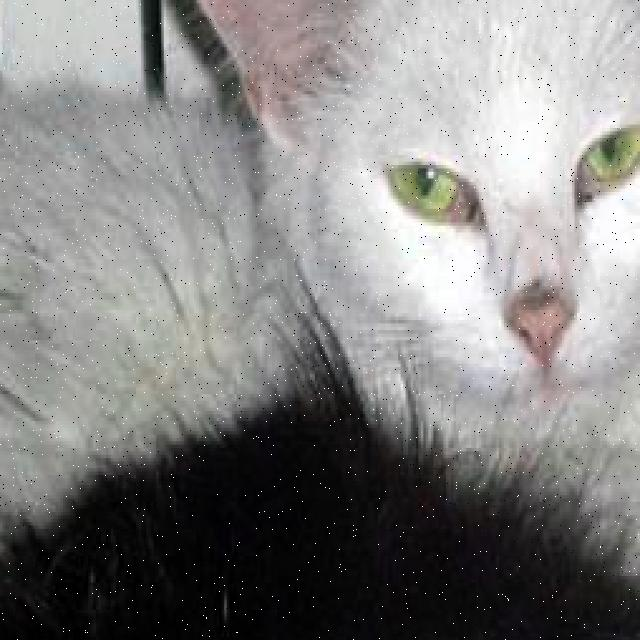Cat: (151, 0, 640, 445)
